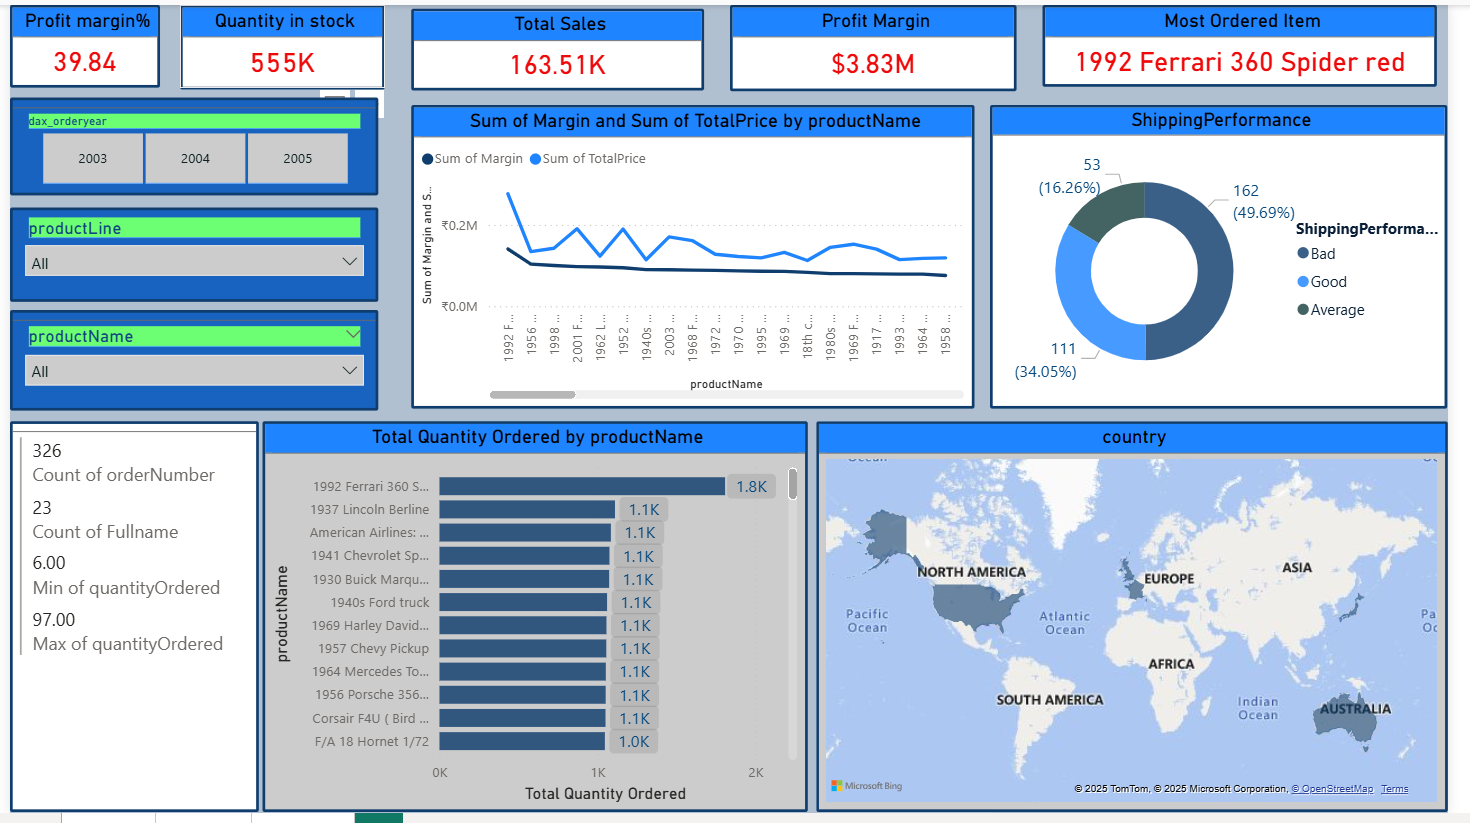

The page's visual inventory and layout, read from the dashboard file:
{"tool":"powerbi","page":{"name":"Page 1","canvas":[1280,720],"ordinal":0},"visuals":[{"type":"card","title":"Total Sales","fields":{"Values":["customers.total_sales"]},"box":[357.3,0,260.5,73.5],"z":0},{"type":"card","title":"Profit Margin","fields":{"Values":["order details.profit"]},"box":[640.7,0,255.2,76.7],"z":1000},{"type":"lineChart","fields":{"Y":["order details.Margin","order details.TotalPrice"],"Category":["products.productName"]},"box":[357.5,89.4,501.5,270.6],"z":2000},{"type":"barChart","title":"Sum of quantityInStock by productName","fields":{"Category":["products.productName"],"Y":["products.quantityInStock"],"Series":["products.productName"]},"box":[872.7,448,406.9,271.3],"z":3000},{"type":"card","title":"Quantity in stock","fields":{"Values":["products.quantityInStock"]},"box":[151.7,0,182,75],"z":4000},{"type":"card","title":"Most Ordered Item","fields":{"Values":["ProductsByQuantity.Most Ordered Product"]},"box":[919.1,0,351.6,73.2],"z":5000},{"type":"card","title":"Profit margin%","fields":{"Values":["order details.profitmargin%"]},"box":[0,0,133.8,73.8],"z":6000},{"type":"slicer","fields":{"Values":["orders.dax_orderyear"]},"box":[0,82.1,328.4,87.5],"z":7000},{"type":"slicer","title":"Product Line","fields":{"Values":["productlines.productLine"]},"box":[0,180.3,328.4,83.9],"z":8000},{"type":"donutChart","title":"ShippingPerformance","fields":{"Y":["orders.ShippingPerformance"],"Category":["orders.ShippingPerformance"]},"box":[872.6,89.4,407.1,270.6],"z":9000},{"type":"slicer","fields":{"Values":["products.productName"]},"box":[0,271.3,328.4,89.2],"z":10000},{"type":"multiRowCard","fields":{"Values":["orders.orderNumber","employees.Fullname","order details.quantityOrdered","Sum(order details.quantityOrdered)1"]},"box":[0,371.2,221.3,348],"z":11000},{"type":"barChart","fields":{"Category":["products.productName"],"Y":["Total Quantity Ordered.Total Quantity Ordered"]},"box":[224.9,371.2,485.5,348],"z":12000},{"type":"filledMap","fields":{"Category":["employees.country"]},"box":[717.5,371.2,562.2,348],"z":13000}]}

Visuals, with their boxes in screenshot pixels (x1, y1, x2, y2), scaled from the page's 1280x720 canvas onto the 1470x823 screenshot:
"Total Sales" card: 410 0 710 84
"Profit Margin" card: 736 0 1029 88
lineChart - order details.Margin x order details.TotalPrice: 411 102 987 412
"Sum of quantityInStock by productName" barChart: 1002 512 1469 822
"Quantity in stock" card: 174 0 383 86
"Most Ordered Item" card: 1056 0 1459 84
"Profit margin%" card: 0 0 154 84
slicer - orders.dax_orderyear: 0 94 377 194
"Product Line" slicer: 0 206 377 302
"ShippingPerformance" donutChart: 1002 102 1469 412
slicer - products.productName: 0 310 377 412
multiRowCard - orders.orderNumber x employees.Fullname: 0 424 254 822
barChart - products.productName x Total Quantity Ordered.Total Quantity Ordered: 258 424 816 822
filledMap - employees.country: 824 424 1469 822
